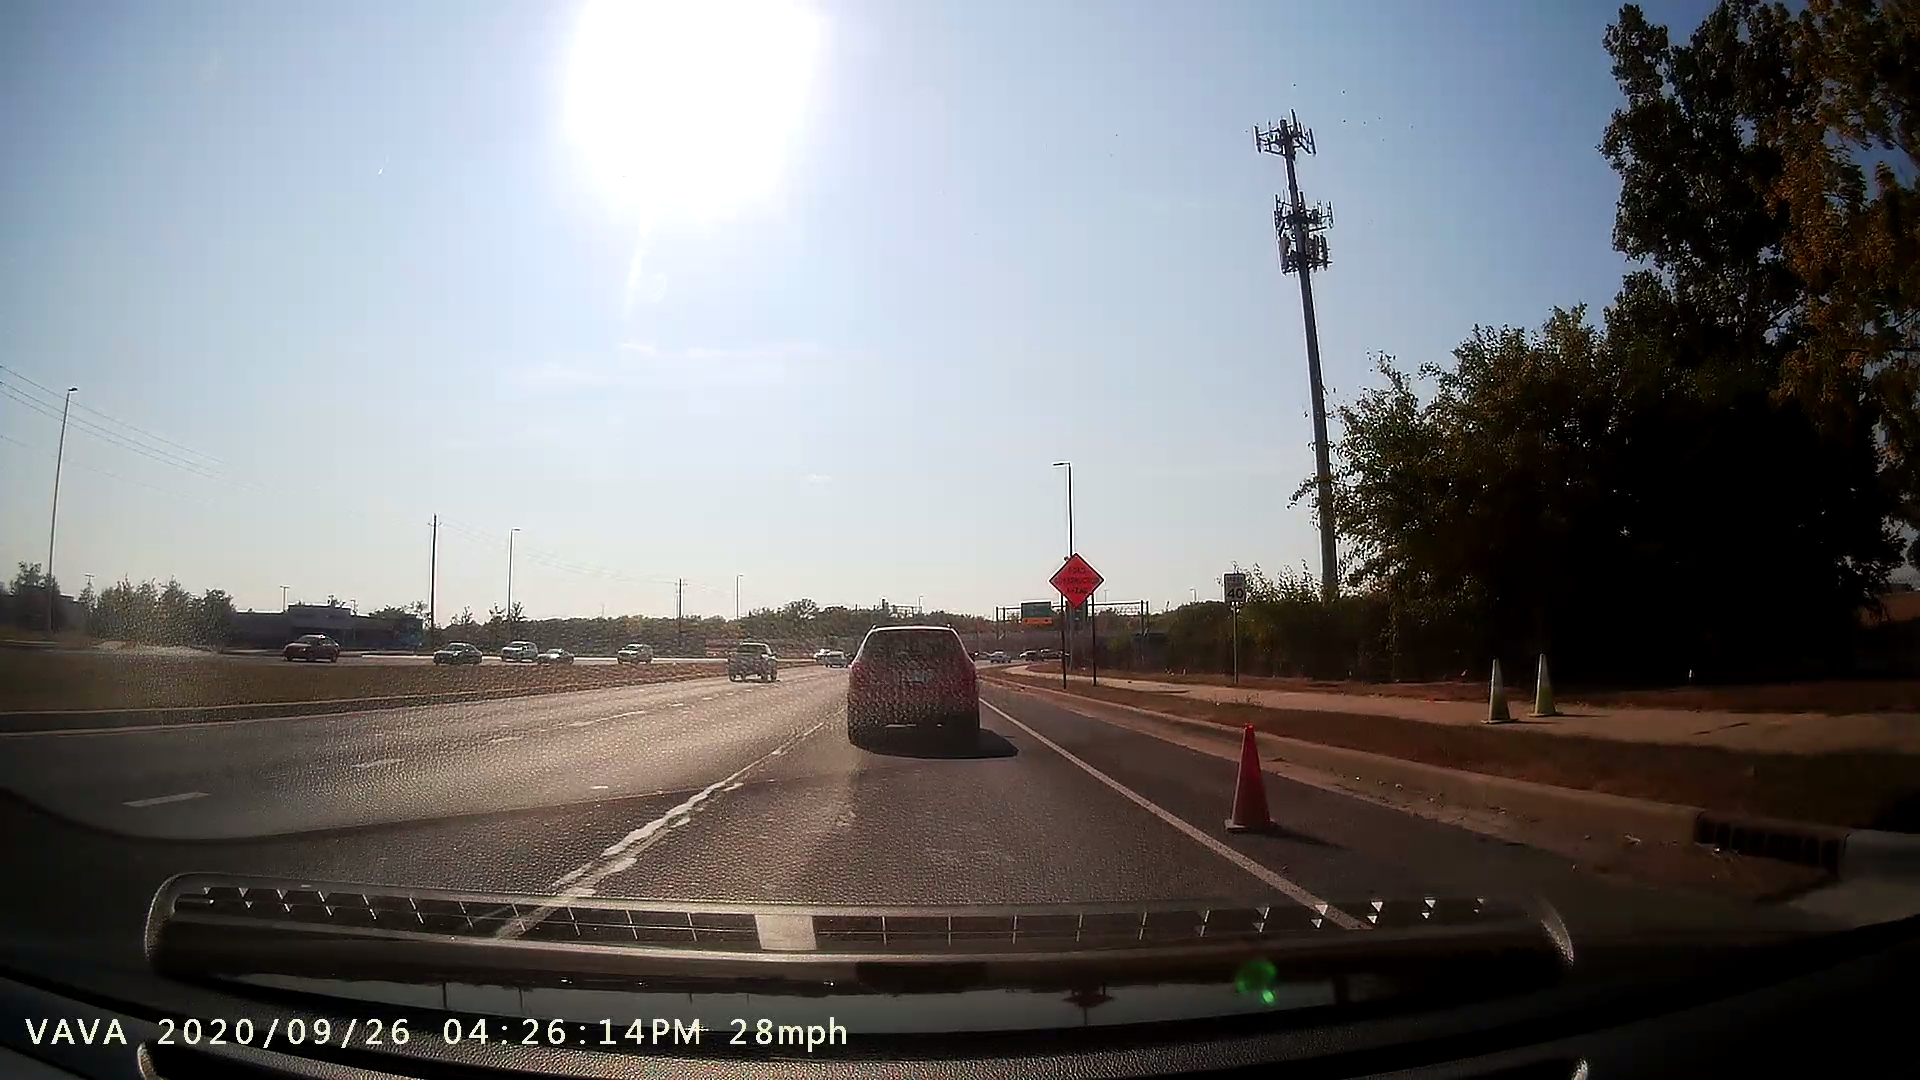const_cone: (1224, 713, 1294, 837), (1473, 654, 1519, 731), (1528, 642, 1568, 719)
